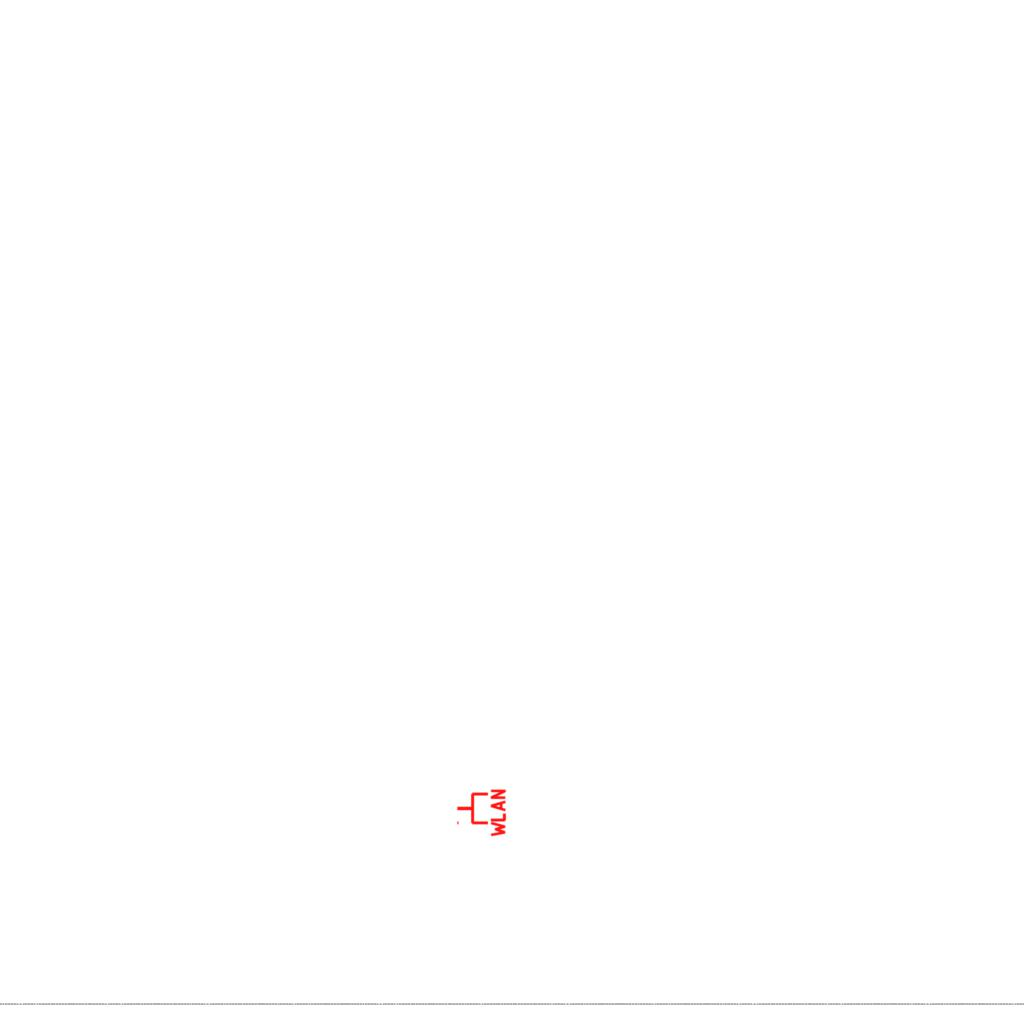WLAN: (455, 787, 507, 839)
